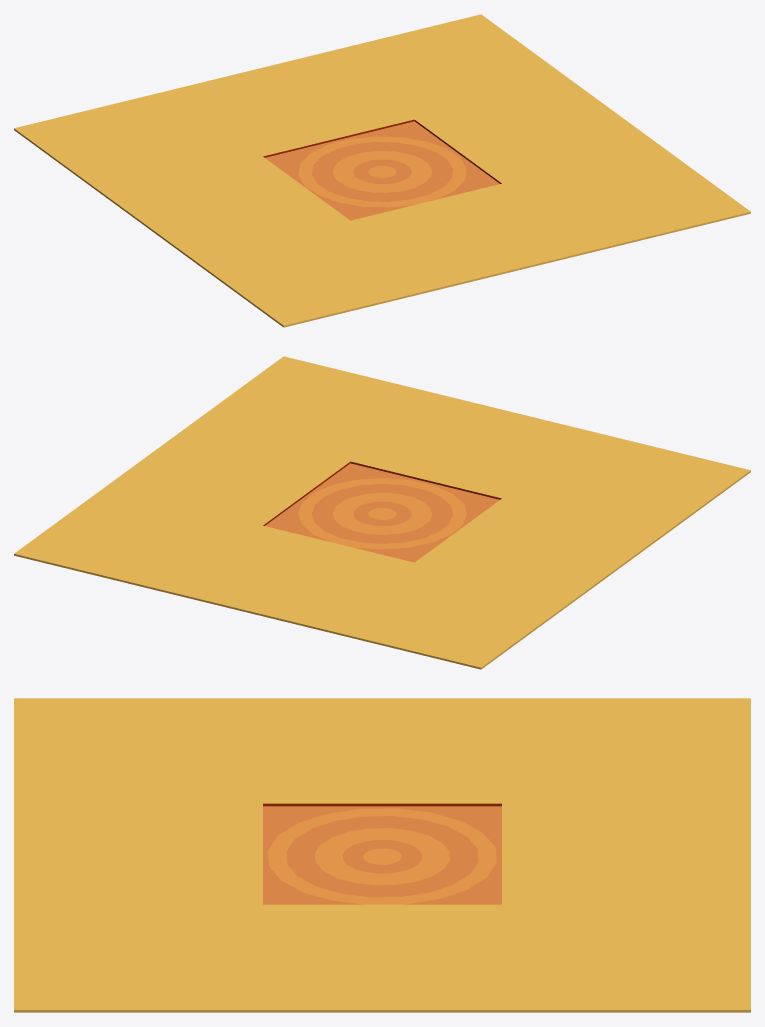
Rendered from Desert_Plane.fbx.
3 renders of one model, top to bottom at view 1: azimuth 30°, elevation 25°; view 2: azimuth 150°, elevation 25°; view 3: azimuth 270°, elevation 25°, orthographic. The views are drawn at different scales.
Parts seen in each view (by area): view 1: Desert_Plane; view 2: Desert_Plane; view 3: Desert_Plane.
Part boxes in pixels (left/top/right/bottom): Desert_Plane: left=14, top=14, right=750, bottom=327; Desert_Plane: left=14, top=356, right=750, bottom=669; Desert_Plane: left=14, top=698, right=750, bottom=1012.
Bounding box in the file's own units: 184 × 184 × 0.7101.
